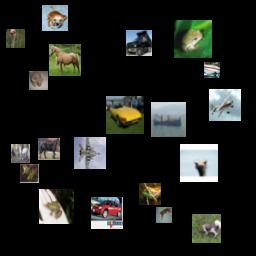airplane: (74, 137, 106, 169), (209, 89, 241, 121)
automobile: (106, 96, 144, 134), (91, 197, 123, 229)
bird: (180, 144, 218, 182), (6, 29, 25, 48)
cat: (156, 207, 172, 223)
dog: (192, 214, 221, 243), (42, 5, 68, 31)
frog: (174, 20, 212, 58), (39, 189, 74, 224), (139, 183, 161, 205), (29, 71, 48, 90), (20, 164, 39, 183)
ship: (151, 102, 186, 137), (204, 62, 220, 78)
truck: (126, 30, 152, 56)
